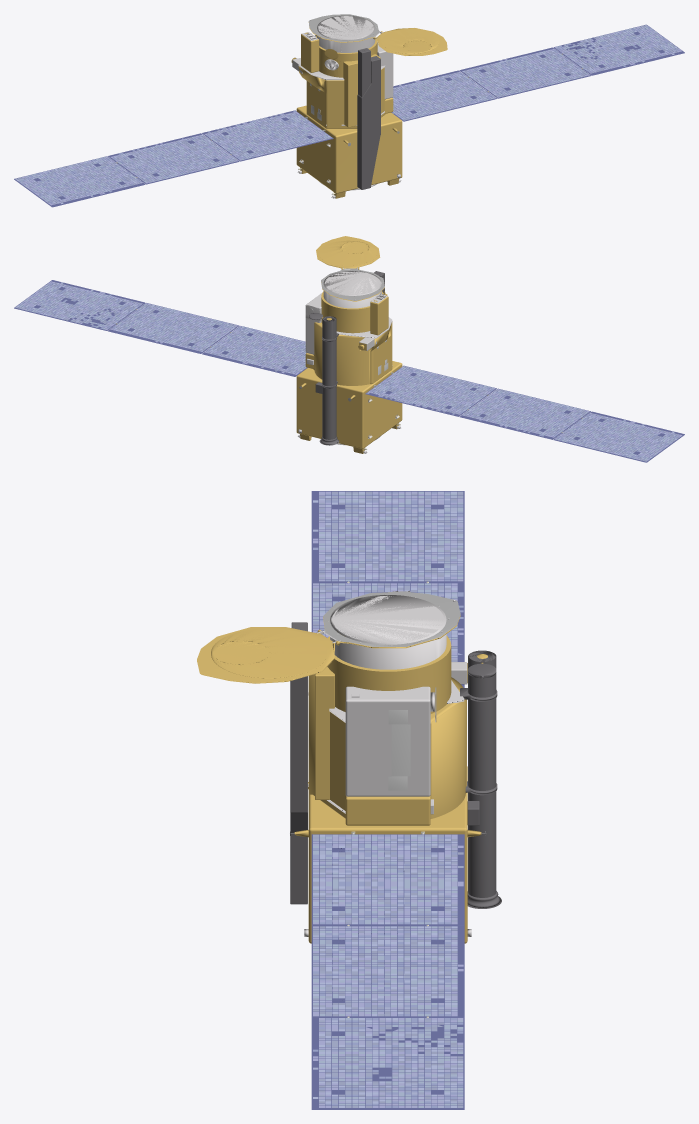
File: hinode-solar-b.glb
The picture shows the model from 3 angles, top to bottom: view 1: azimuth 30°, elevation 25°; view 2: azimuth 150°, elevation 25°; view 3: azimuth 270°, elevation 25°; orthographic projection. The views are drawn at different scales.
Visible parts, largest first — view 1: Fake; view 2: Fake; view 3: Fake.
Part boxes in pixels (x1,y1,x2,y2): Fake: [14, 14, 684, 207]; Fake: [14, 236, 684, 462]; Fake: [197, 491, 501, 1109].
Bounding box in the file's own units: 230 × 52.5 × 47.96.
